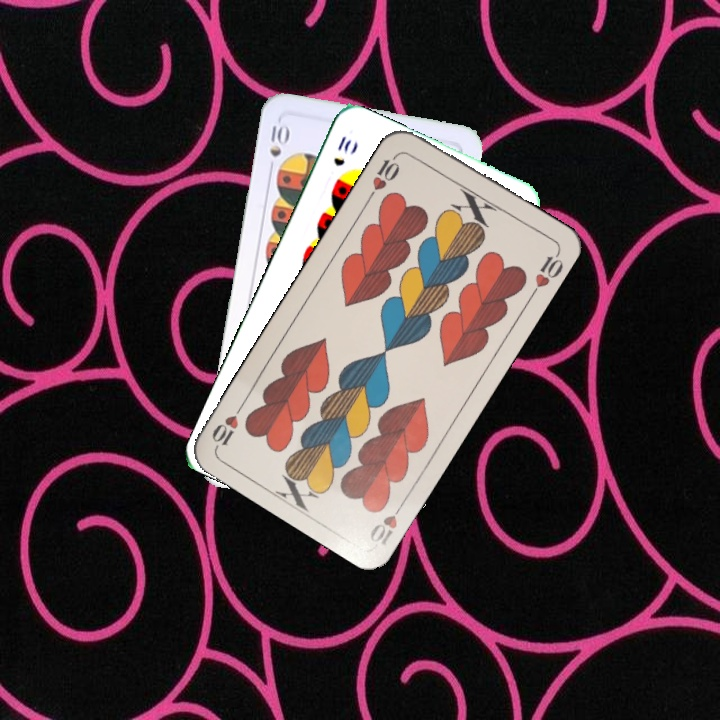H10: (365, 495, 409, 548), (364, 149, 403, 202)
S10: (264, 119, 290, 176), (329, 131, 354, 169)
